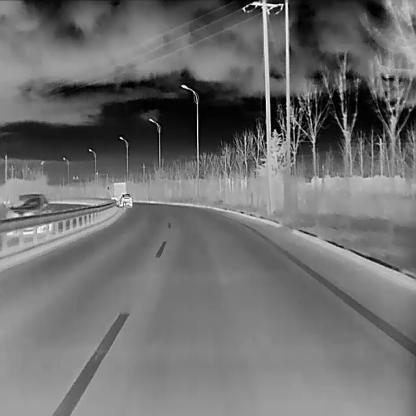car: (5, 193, 53, 234), (107, 182, 126, 204), (118, 193, 132, 207)
